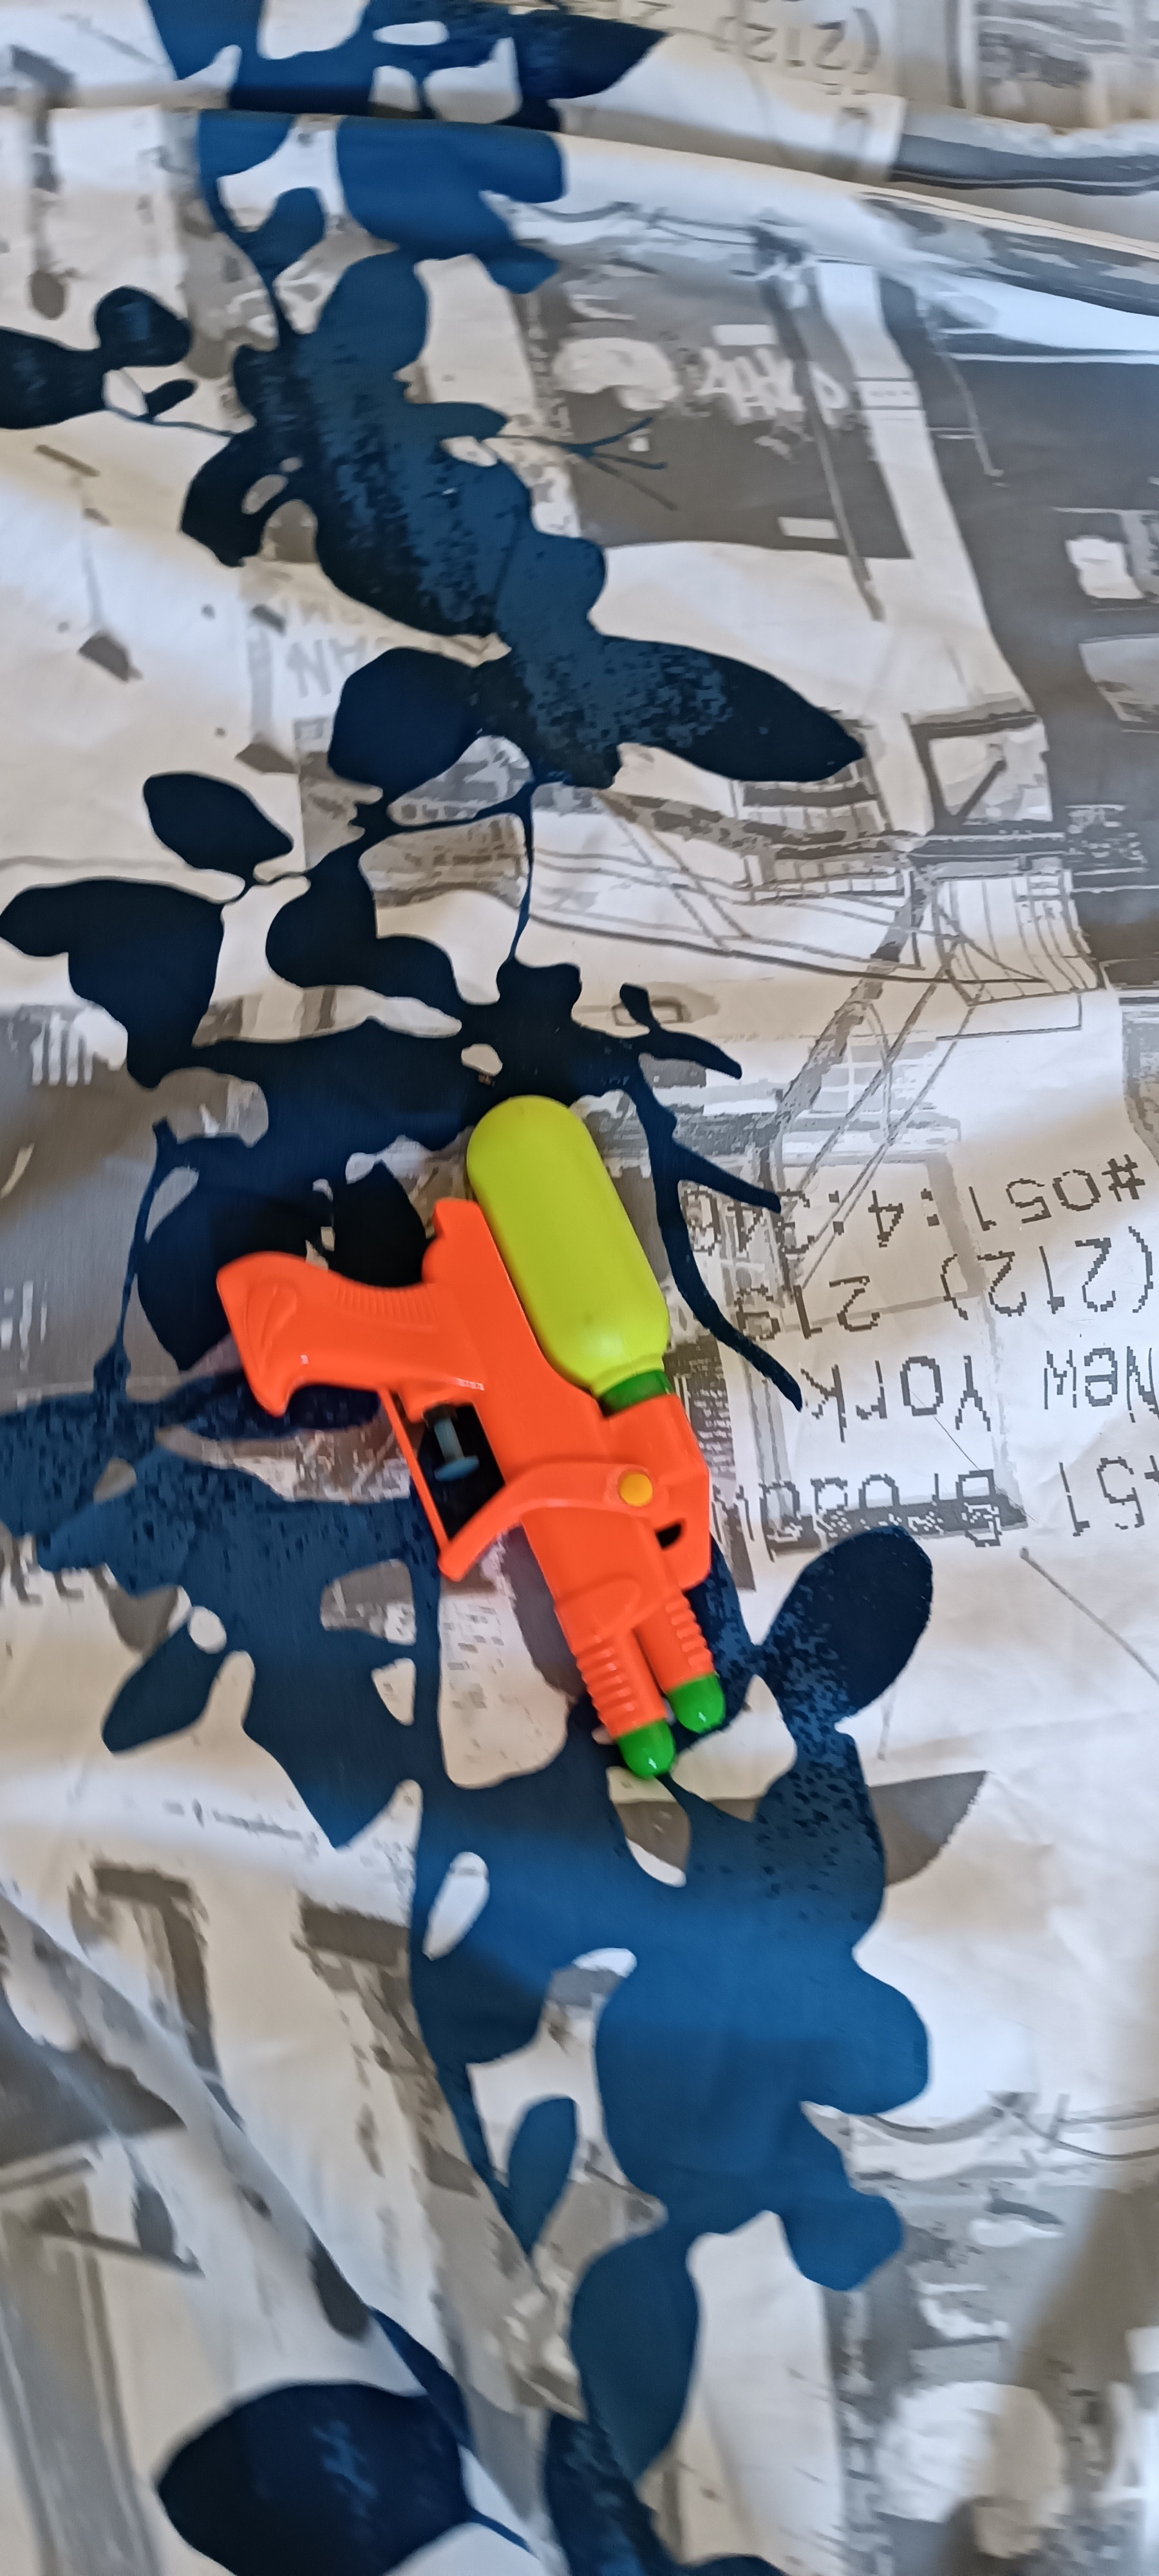Water Gun: (215, 1096, 729, 1774)
